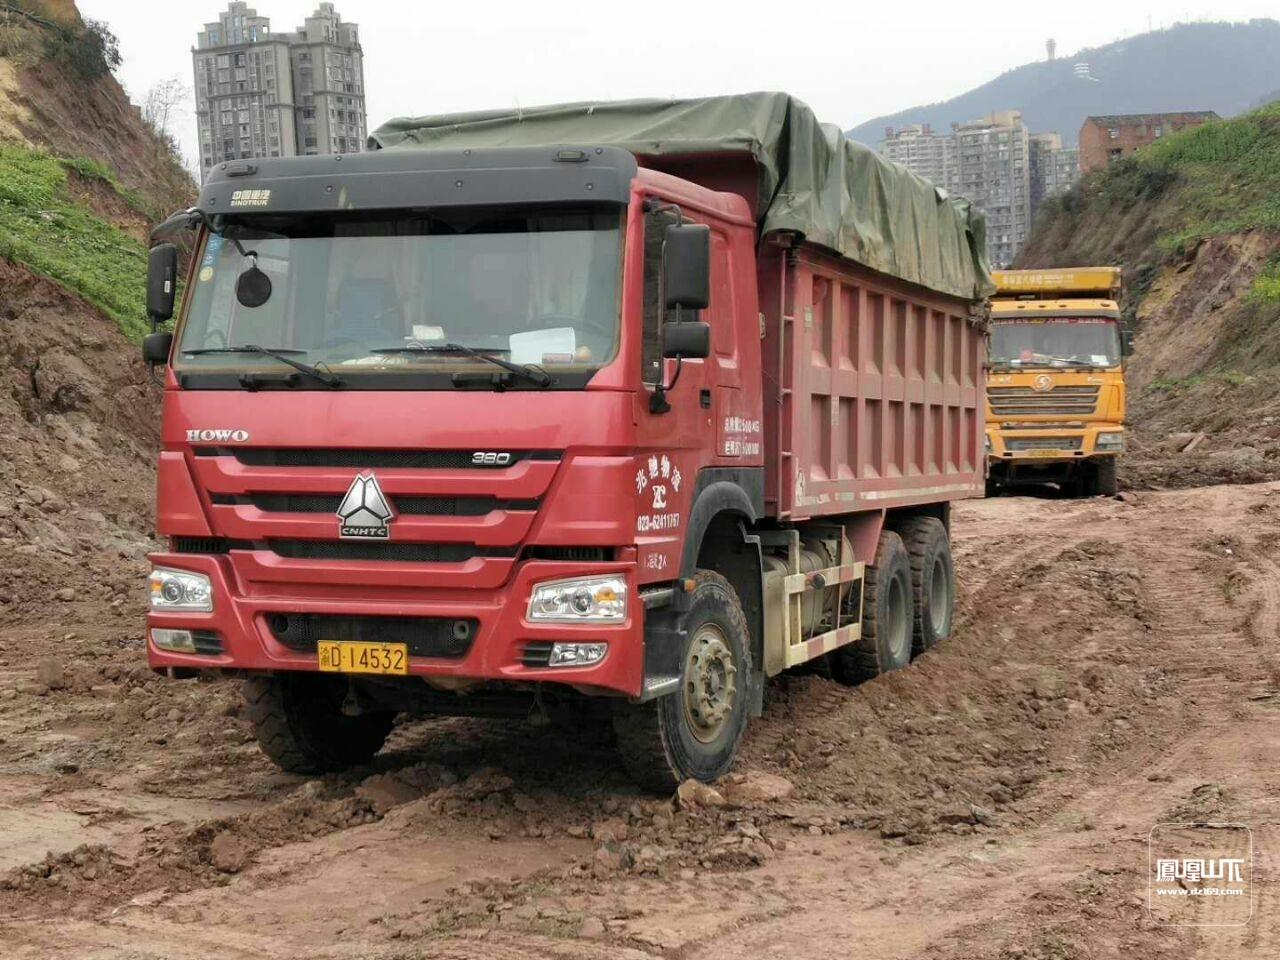truck: (140, 59, 997, 803)
